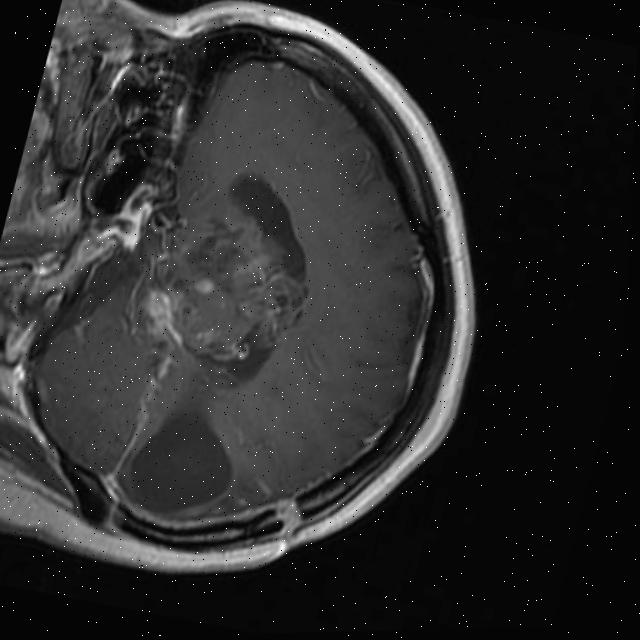Glioma: (111, 198, 326, 385)
